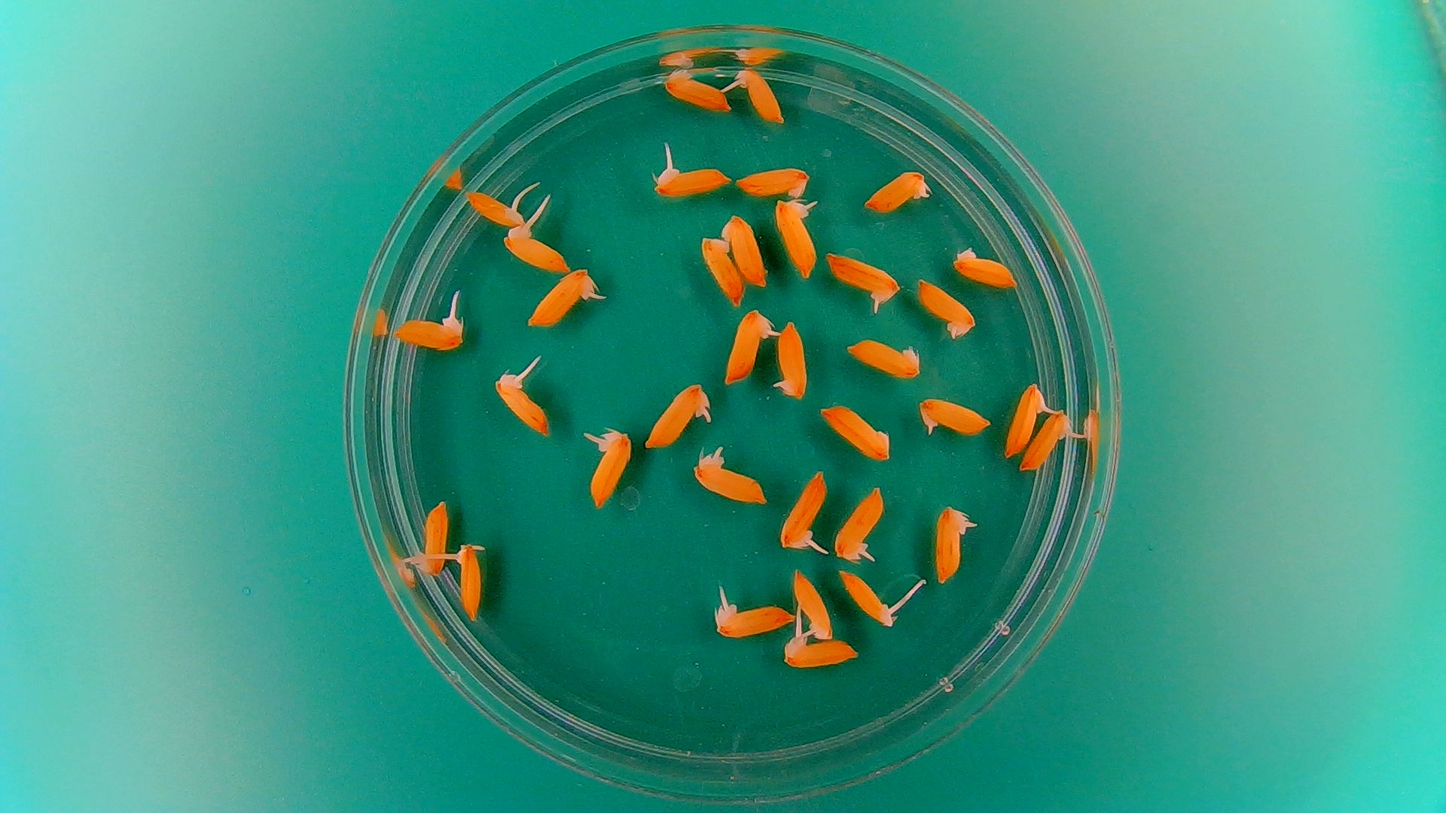no: (821, 404, 892, 463), (721, 209, 769, 288), (841, 335, 923, 381), (698, 233, 746, 307), (862, 163, 933, 211), (772, 318, 811, 401), (660, 71, 734, 114), (950, 245, 1019, 290), (733, 162, 812, 199)
yes: (642, 384, 709, 451), (526, 266, 595, 327), (777, 470, 827, 550), (834, 483, 883, 564), (829, 255, 898, 306), (587, 426, 630, 507), (914, 282, 974, 340), (915, 394, 993, 438), (776, 200, 819, 279), (834, 571, 893, 628), (725, 308, 770, 382), (687, 464, 765, 506), (1002, 386, 1045, 458), (931, 505, 969, 586), (731, 67, 783, 126), (498, 373, 547, 435), (794, 574, 838, 643), (714, 604, 798, 640), (647, 163, 727, 199), (1020, 418, 1072, 473), (389, 312, 461, 351), (506, 231, 569, 273), (782, 637, 857, 669), (453, 544, 484, 620), (420, 501, 450, 577), (465, 192, 526, 229)
